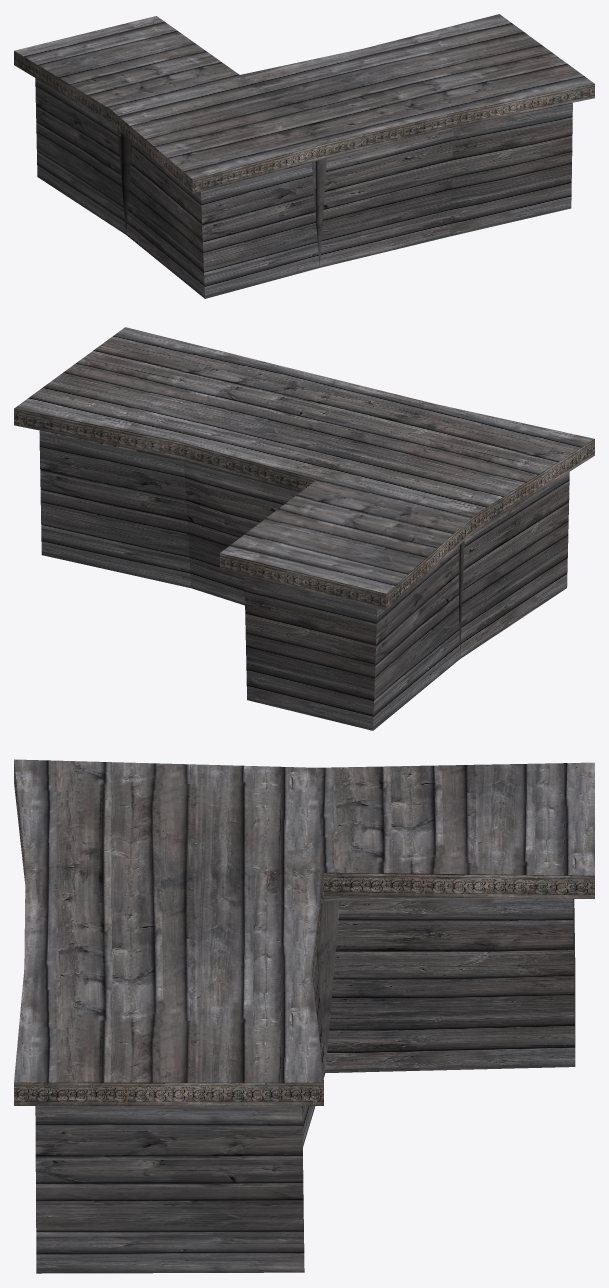
The model's file is tavern_bar_LOD.dae.
3 views of the same model, one above another, from view 1: azimuth 30°, elevation 25°; view 2: azimuth 150°, elevation 25°; view 3: azimuth 270°, elevation 25° (orthographic). The views are drawn at different scales.
Parts seen in each view (by area): view 1: Default_Layer; view 2: Default_Layer; view 3: Default_Layer.
Part boxes in pixels (box(x1,y1,x2,y2)): Default_Layer: box(14, 14, 594, 298); Default_Layer: box(14, 327, 594, 730); Default_Layer: box(14, 759, 594, 1273).
Size of the model in its own units: 8.26 by 2.51 by 6.36.
